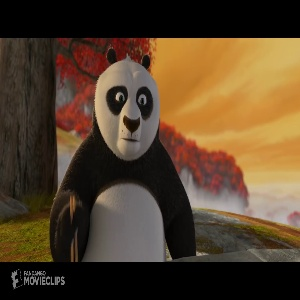po: (44, 46, 198, 261)
